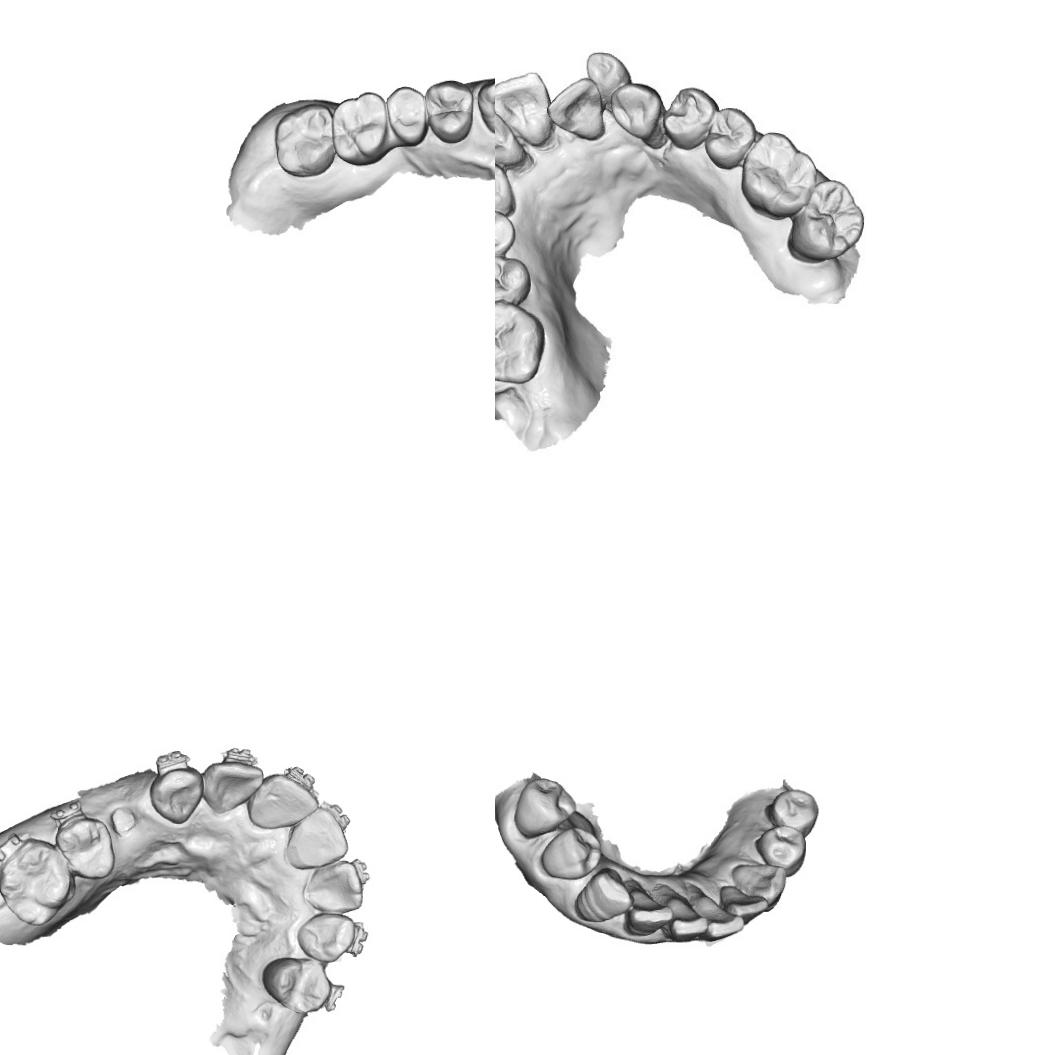canine: (572, 866, 635, 924), (609, 81, 662, 144), (297, 912, 357, 965), (148, 766, 200, 827), (740, 864, 790, 907), (495, 161, 517, 217), (476, 73, 495, 136)
incisor: (495, 67, 554, 147), (282, 804, 349, 870), (247, 772, 316, 832), (301, 856, 363, 914), (556, 82, 611, 142), (202, 759, 261, 814), (624, 878, 674, 938), (581, 46, 632, 96), (495, 103, 532, 168), (718, 884, 768, 924), (658, 906, 708, 944), (703, 904, 744, 944)
molar: (782, 177, 870, 266), (736, 131, 815, 223), (0, 840, 73, 928), (273, 102, 338, 178), (330, 91, 390, 166), (495, 302, 548, 384)
premolar: (512, 772, 579, 840), (260, 954, 328, 1015), (54, 815, 114, 882), (700, 106, 758, 171), (664, 86, 719, 153), (539, 824, 602, 882), (424, 79, 475, 145), (384, 84, 430, 148), (755, 822, 807, 877), (767, 788, 820, 838), (495, 255, 532, 303), (495, 208, 516, 266)
